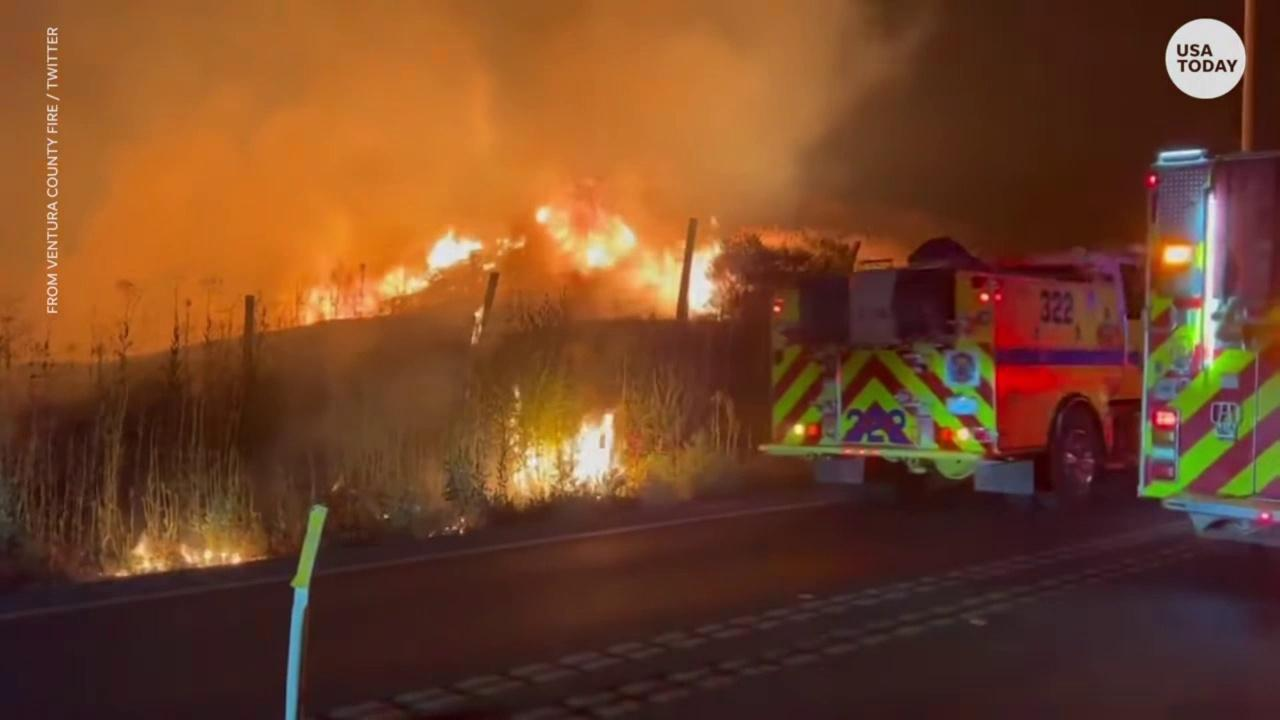fire: (301, 227, 485, 326), (507, 384, 615, 498), (537, 203, 635, 270), (686, 238, 728, 321), (113, 529, 170, 576), (180, 543, 242, 568), (494, 233, 526, 257), (469, 304, 485, 346), (482, 262, 497, 271)
smoke: (0, 0, 946, 538)
